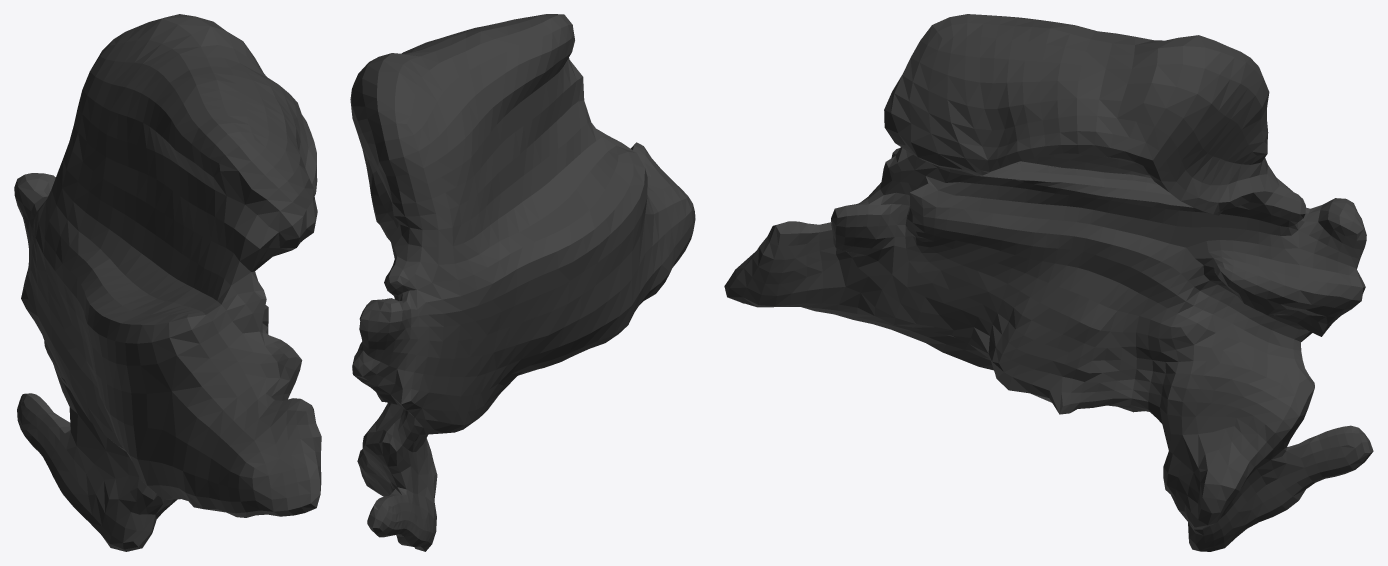
File: L_ventral_conchal_sinus.glb
3 views of the same model, side by side, from view 1: azimuth 30°, elevation 25°; view 2: azimuth 150°, elevation 25°; view 3: azimuth 270°, elevation 25° (orthographic). The views are drawn at different scales.
Visible parts, largest first — view 1: L_ventral_conchal_sinus; view 2: L_ventral_conchal_sinus; view 3: L_ventral_conchal_sinus.
Boxes of the visible parts, x1=… form: L_ventral_conchal_sinus: x1=14, y1=14, x2=321, y2=551; L_ventral_conchal_sinus: x1=350, y1=14, x2=695, y2=551; L_ventral_conchal_sinus: x1=724, y1=14, x2=1373, y2=551.
Size of the model in its own units: 43.58 by 95.39 by 105.
Materials: 1 (1 with a texture image).
